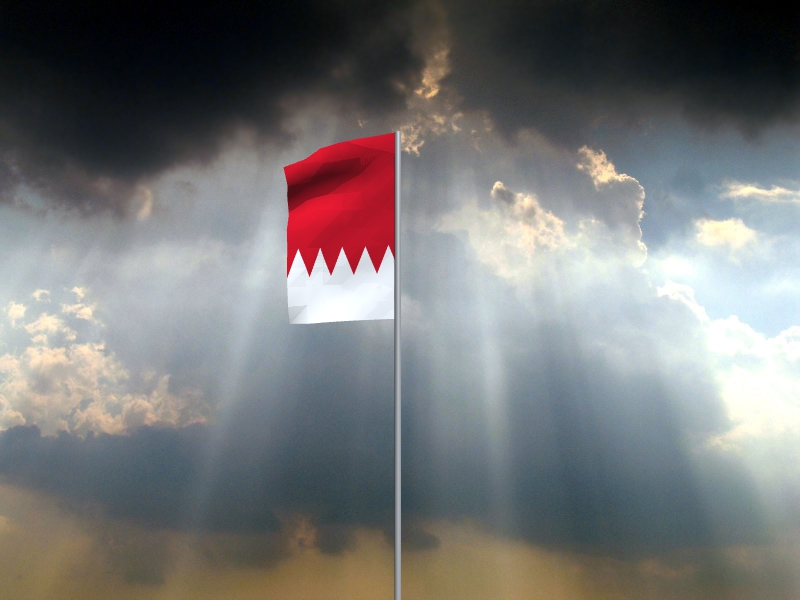bh: (283, 132, 397, 328)
